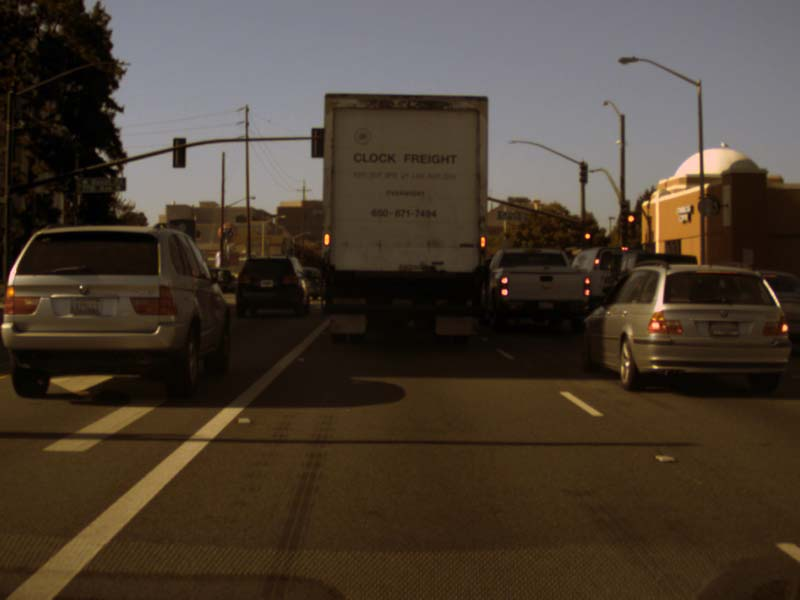Red: (625, 213, 637, 238), (583, 231, 592, 247)
